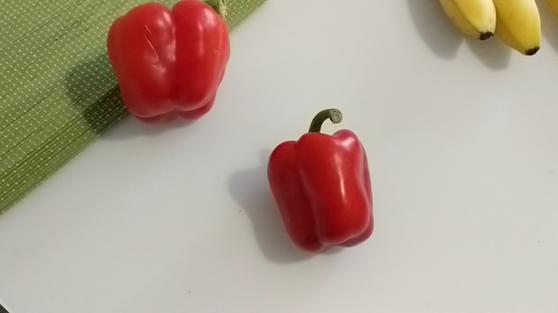pepper: (268, 105, 378, 249), (107, 1, 234, 122)
